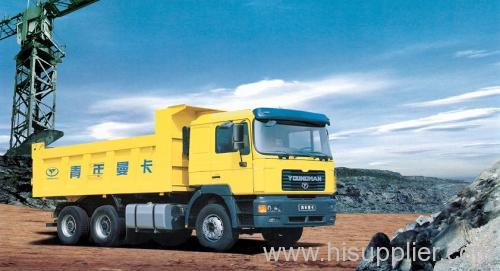truck: (21, 117, 338, 239)
